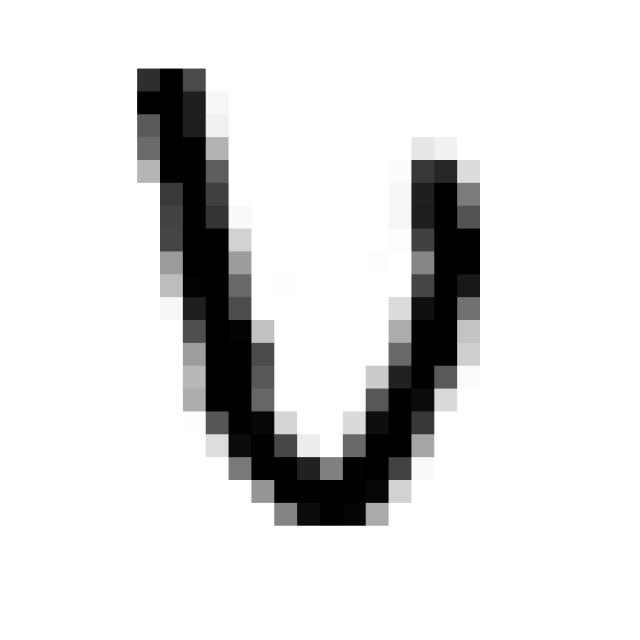7 -seven-: (108, 43, 500, 545)
